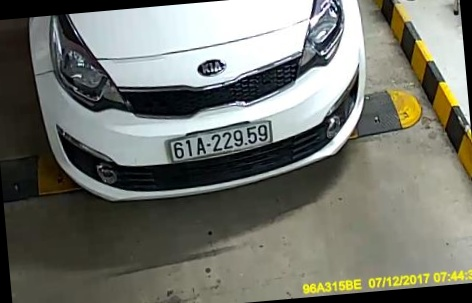plate: (164, 118, 276, 172)
